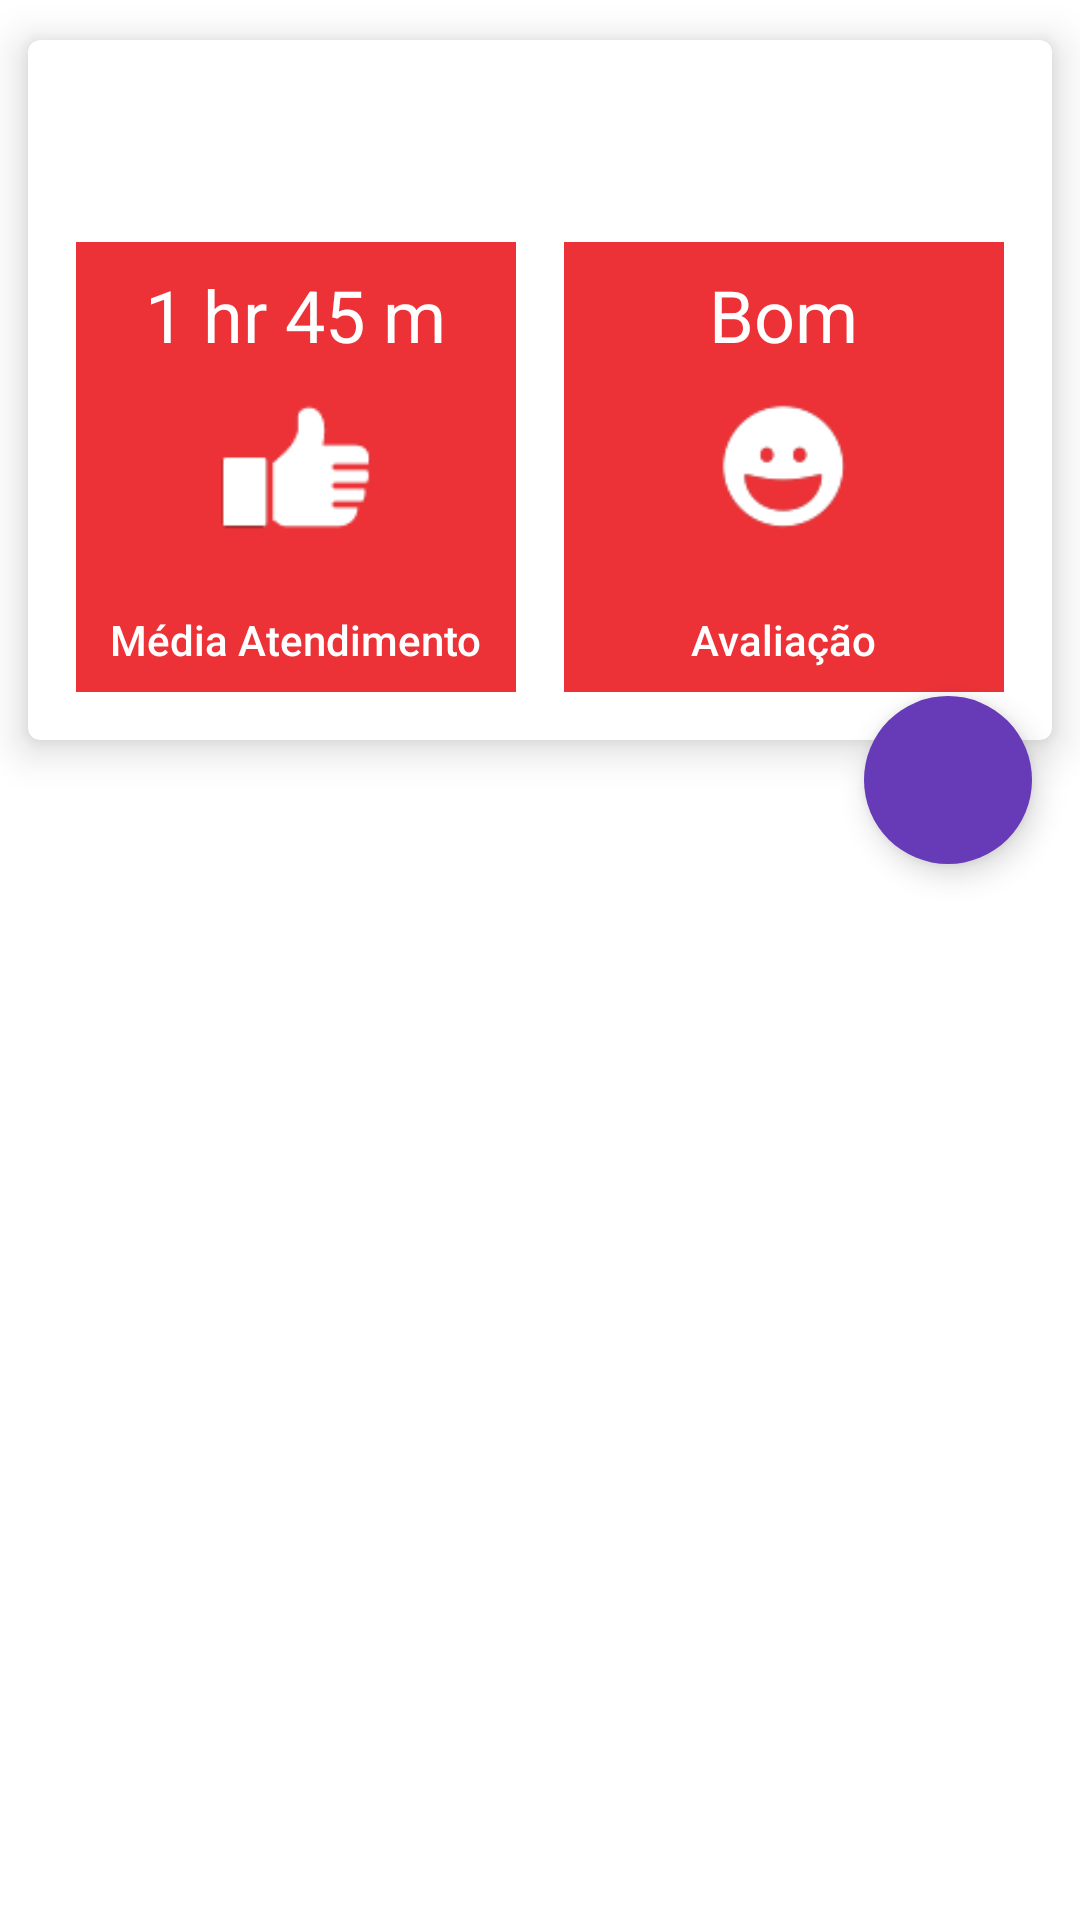

Point at icon controls on the screen. Image size 1080w x 1920h, points as [x,y].
like: [295,467]
smile feliz: [783,466]
